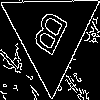B: (25, 9, 70, 65)
